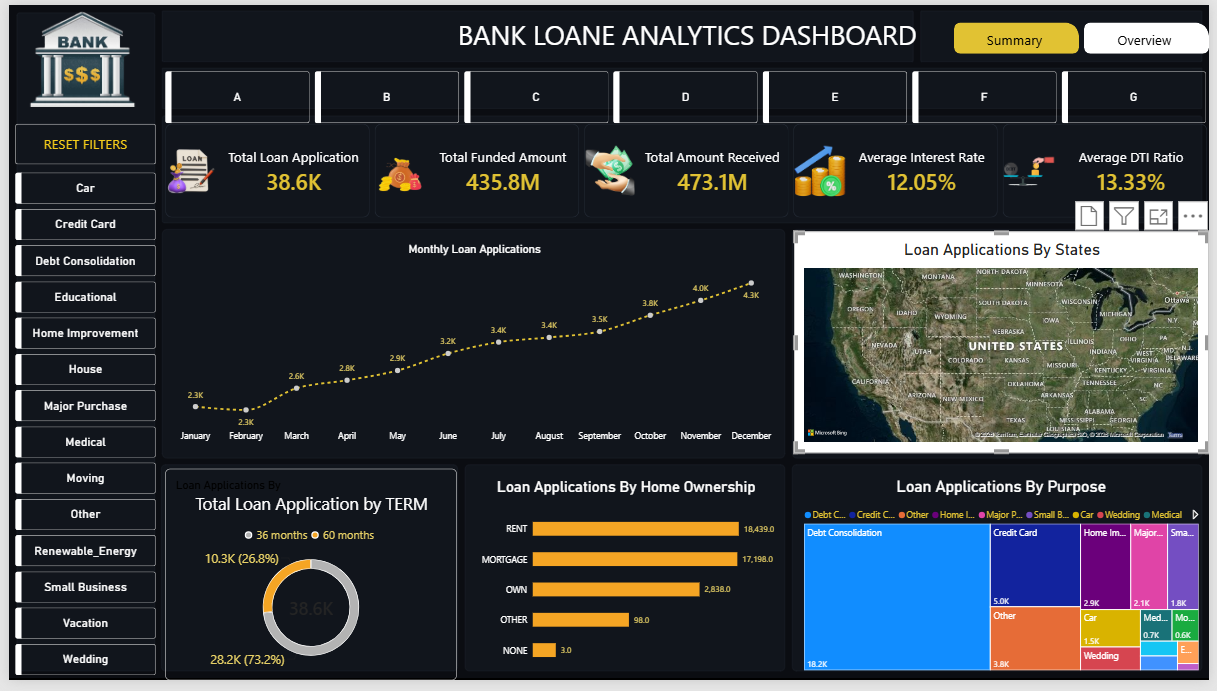

Layout of this report page (visuals, bound fields, positions):
{"tool":"powerbi","page":{"name":"Overview","canvas":[1920,1080],"ordinal":1},"visuals":[{"type":"cardVisual","fields":{"Data":["financial_loan.Total Loan Application","financial_loan.Total Funded Amount","financial_loan.Total Amount Received","financial_loan.Average Interest Rate","financial_loan.Average DTI Rate"]},"box":[250,190,1670,150],"z":0},{"type":"image","box":[0,0,234.9,173],"z":1000},{"type":"advancedSlicerVisual","fields":{"Values":["financial_loan.PURPOSE"]},"box":[10,268,225,811.7],"z":2000},{"type":"advancedSlicerVisual","fields":{"Values":["financial_loan.GRADE"]},"box":[250,106.7,1670,83.3],"z":3000},{"type":"actionButton","box":[10,190,225,65],"z":4000},{"type":"textbox","box":[250,18,1670,68],"z":5000},{"type":"pageNavigator","box":[1512,28,408,50],"z":6000},{"type":"lineChart","title":"Monthly Loan Applications","fields":{"Category":["financial_loan.ISSUE_DATE.Variation.Date Hierarchy.Month"],"Y":["financial_loan.Total Loan Application"]},"box":[250,366.7,990,353.3],"z":7000},{"type":"donutChart","title":"Loan Applications By ","fields":{"Category":["financial_loan.TERM"],"Y":["financial_loan.Total Loan Application"]},"box":[250,741.7,466.7,338.3],"z":8000},{"type":"clusteredBarChart","title":"Loan Applications By Home Ownership","fields":{"Category":["financial_loan.HOME_OWNERSHIP"],"Y":["financial_loan.Total Loan Application"]},"box":[733.3,741.7,506.7,338.3],"z":9000},{"type":"treemap","title":"Loan Applications By Purpose","fields":{"Group":["financial_loan.PURPOSE"],"Values":["financial_loan.Total Loan Application"]},"box":[1256,742,663.3,338.3],"z":10000},{"type":"map","title":"Loan Applications By States","fields":{"Category":["financial_loan.ADDRESS_STATE"],"Size":["financial_loan.Total Loan Application"]},"box":[1255.8,362.8,664,354],"z":10001}]}

Visuals, with their boxes in screenshot pixels (x1, y1, x2, y2), scaled from the page's 1920x1080 canvas onto the 1217x691 screenshot:
cardVisual - financial_loan.Total Loan Application x financial_loan.Total Funded Amount: (158,122,1216,218)
image: (0,0,149,111)
advancedSlicerVisual - financial_loan.PURPOSE: (6,171,149,690)
advancedSlicerVisual - financial_loan.GRADE: (158,68,1216,122)
actionButton: (6,122,149,163)
textbox: (158,12,1216,55)
pageNavigator: (958,18,1216,50)
"Monthly Loan Applications" lineChart: (158,235,786,461)
"Loan Applications By " donutChart: (158,475,454,690)
"Loan Applications By Home Ownership" clusteredBarChart: (465,475,786,690)
"Loan Applications By Purpose" treemap: (796,475,1216,690)
"Loan Applications By States" map: (796,232,1216,459)
